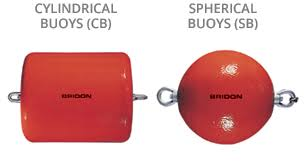buoy: (20, 52, 133, 144), (178, 50, 274, 144)
